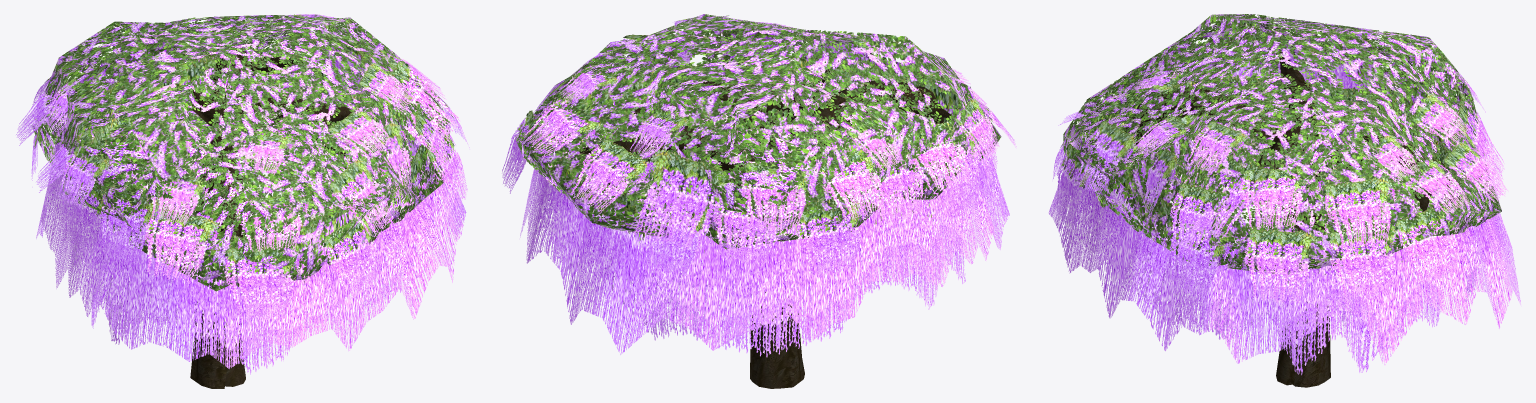
File: Wisteria.glb
The picture shows the model from 3 angles, left to right: view 1: azimuth 30°, elevation 25°; view 2: azimuth 150°, elevation 25°; view 3: azimuth 270°, elevation 25°; orthographic projection.
Parts seen in each view (by area): view 1: Wisteria; view 2: Wisteria; view 3: Wisteria.
Part boxes in pixels (x1=…): Wisteria: x1=16, y1=14, x2=469, y2=388; Wisteria: x1=502, y1=14, x2=1016, y2=388; Wisteria: x1=1048, y1=14, x2=1520, y2=387.
Size of the model in its own units: 8.53 by 6.56 by 8.38.
5 materials, 5 textured.
